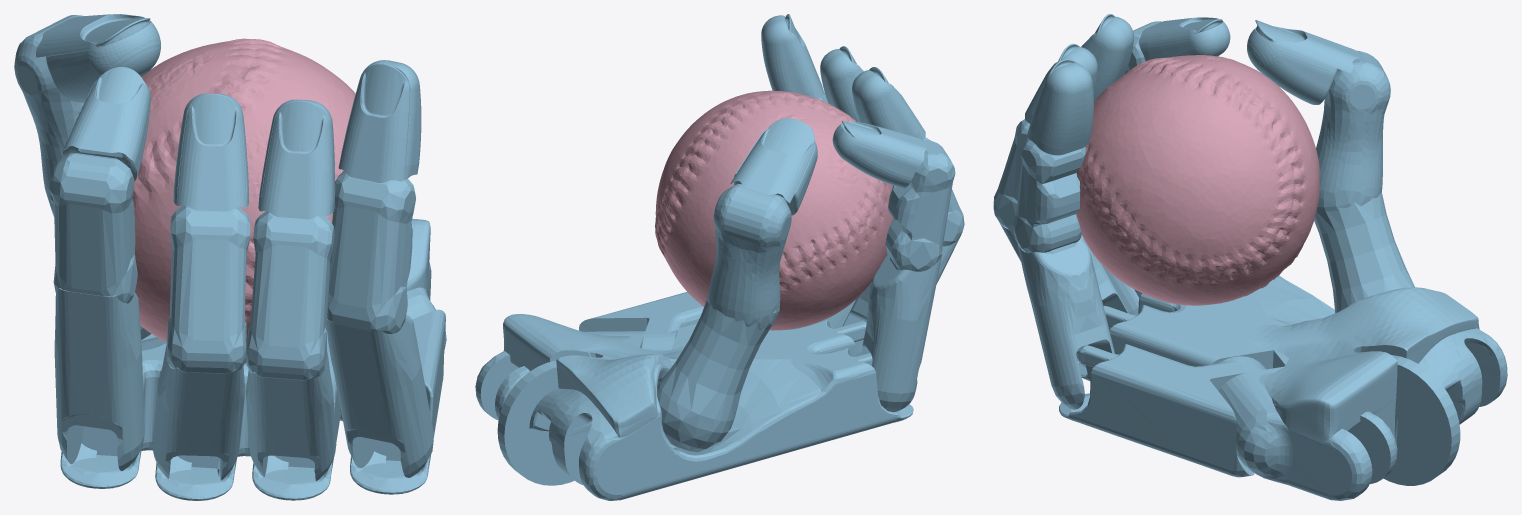
The picture shows the model from 3 angles, left to right: view 1: azimuth 30°, elevation 25°; view 2: azimuth 150°, elevation 25°; view 3: azimuth 270°, elevation 25°; orthographic projection. The views are drawn at different scales.
Parts seen in each view (by area): view 1: world; view 2: world; view 3: world.
Part boxes in pixels (x1,y1,x2,y2): world: (14, 14, 446, 500); world: (475, 14, 964, 500); world: (993, 14, 1507, 500).
Size of the model in its own units: 0.1327 by 0.1224 by 0.1479.
